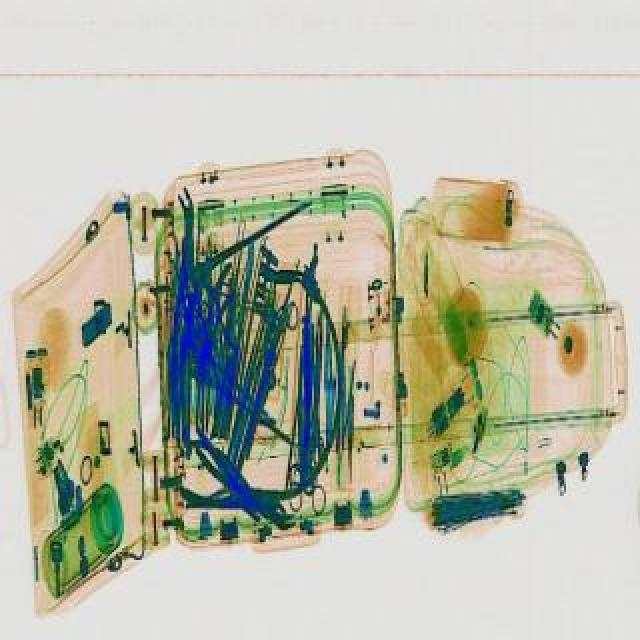pliers: (262, 298, 306, 370), (288, 430, 328, 508)
